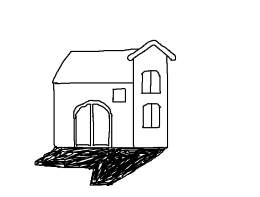closed_window: (136, 99, 164, 132), (138, 65, 164, 100)
door: (66, 98, 115, 151)
open_window: (110, 87, 130, 104)
roof: (48, 39, 180, 86)
shadow: (29, 143, 173, 190)
wall: (48, 78, 137, 152)
